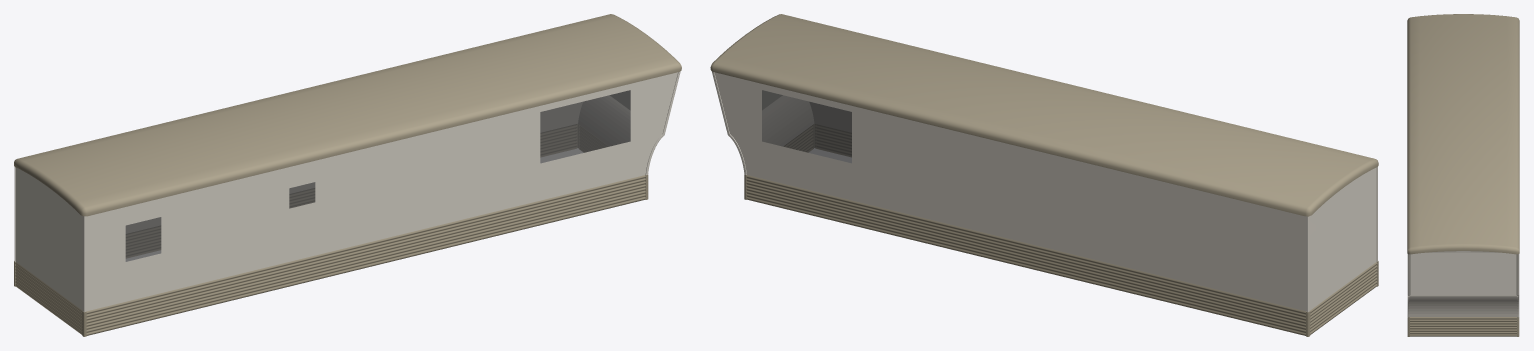
File: trailer.fbx
3 renders of one model, left to right at view 1: azimuth 30°, elevation 25°; view 2: azimuth 150°, elevation 25°; view 3: azimuth 270°, elevation 25°, orthographic. The views are drawn at different scales.
Parts seen in each view (by area): view 1: ExteriorBody, RoofPanel, Skirt; view 2: ExteriorBody, RoofPanel, Skirt; view 3: RoofPanel, ExteriorBody, Skirt.
Boxes of the visible parts, x1,y1,x2,y2 form: ExteriorBody: (14,71,680,311); RoofPanel: (14,14,681,216); Skirt: (14,124,648,336); ExteriorBody: (711,71,1377,311); RoofPanel: (710,14,1378,216); Skirt: (744,124,1378,336); RoofPanel: (1407,14,1519,254); ExteriorBody: (1407,251,1519,317); Skirt: (1407,317,1519,336).
Size of the model in its own units: 150 by 31.5 by 30.64.
